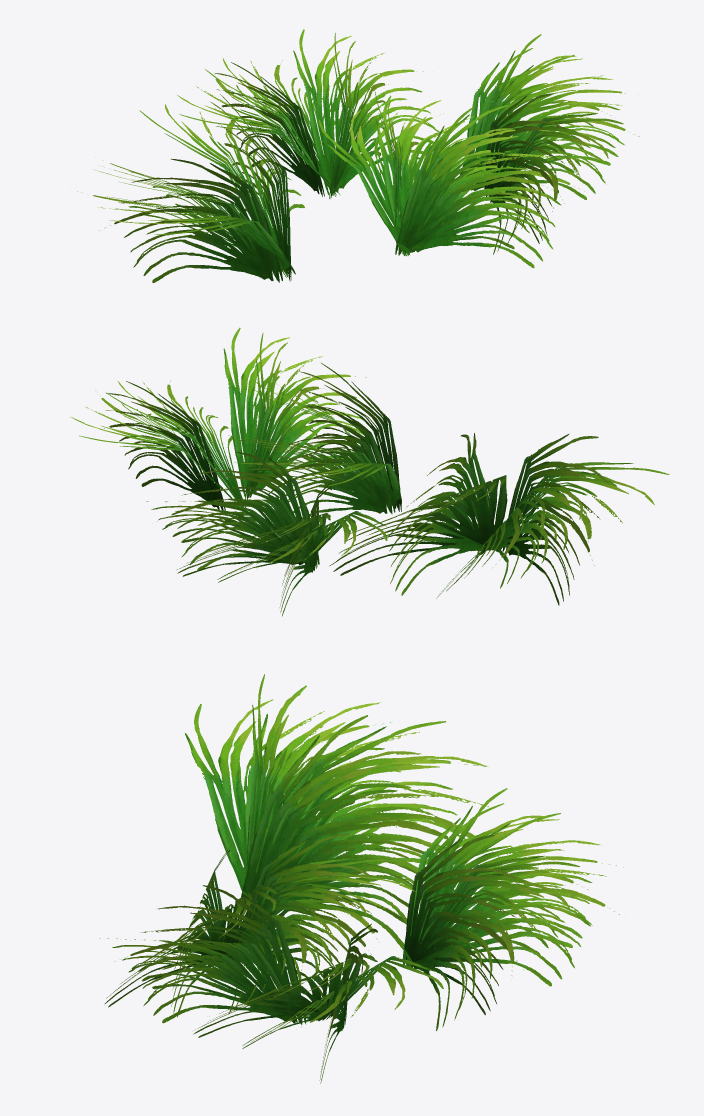
Rendered from sm_straw_01.FBX.
3 views of the same model, one above another, from view 1: azimuth 30°, elevation 25°; view 2: azimuth 150°, elevation 25°; view 3: azimuth 270°, elevation 25° (orthographic). The views are drawn at different scales.
Parts seen in each view (by area): view 1: sm_straw_01; view 2: sm_straw_01; view 3: sm_straw_01.
Boxes of the visible parts, x1,y1,x2,y2 form: sm_straw_01: [77, 29, 639, 282]; sm_straw_01: [71, 327, 669, 616]; sm_straw_01: [99, 674, 623, 1083].
Size of the model in its own units: 112 by 84.23 by 29.59.
